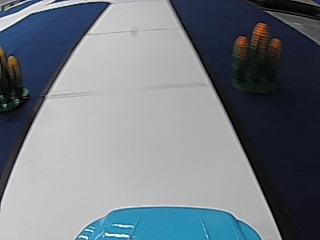corn: (230, 19, 282, 94), (0, 51, 28, 109)
